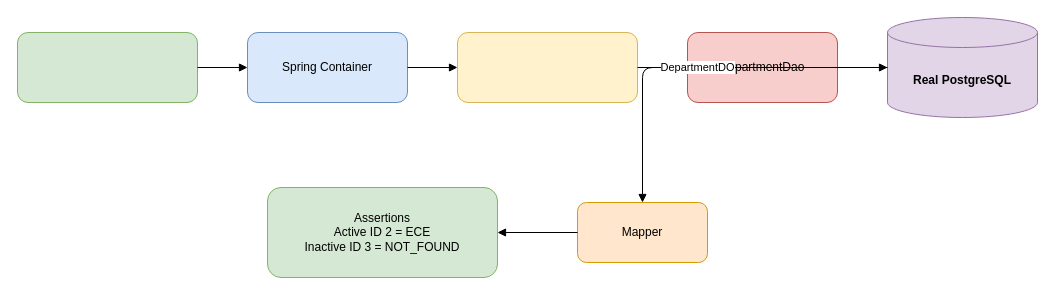
Image size: 1055x295. Some labels were removed from this diagram. Here are the shapes that lost their labels. From the top down, the box of each, then its label:
(16, 32, 198, 102): JUnit + @SpringBootTest
(456, 32, 638, 102): ReadDepartmentService
